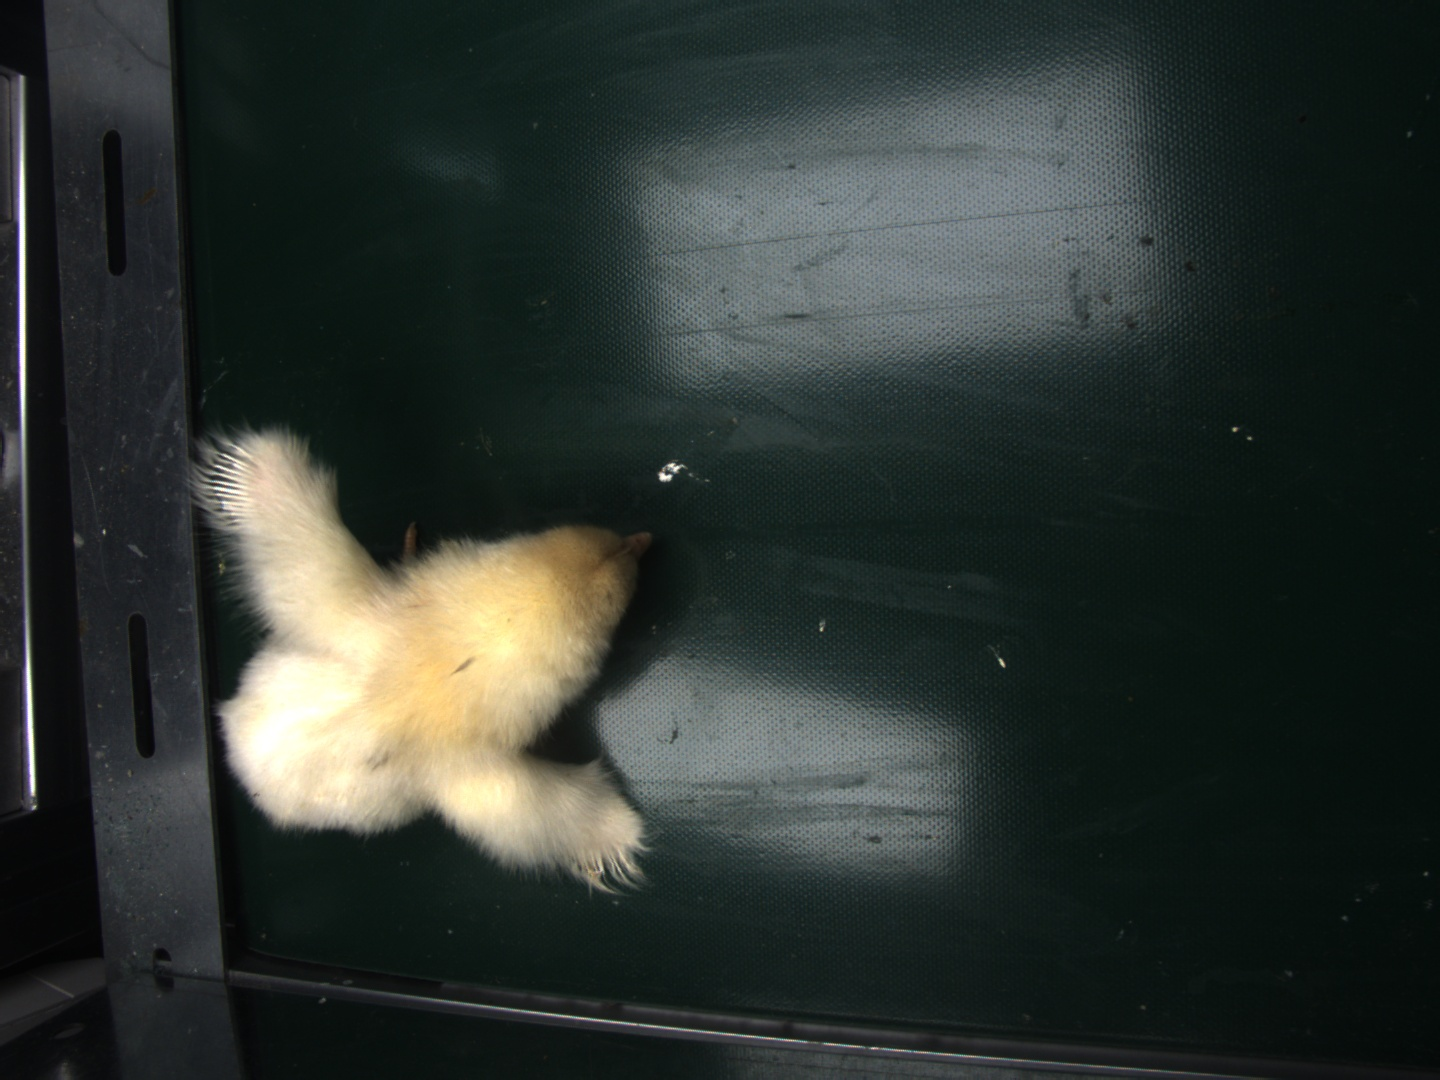male: (206, 442, 261, 526)
